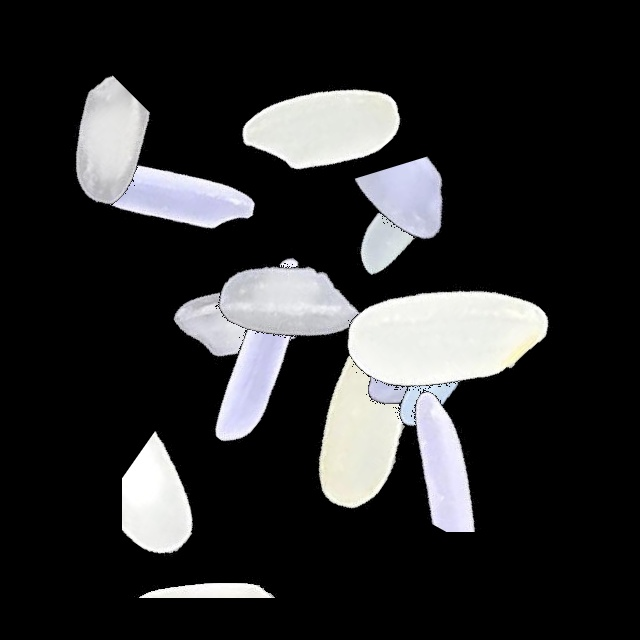Broken: (5, 39, 168, 289), (295, 317, 545, 480), (341, 376, 591, 532), (342, 110, 485, 360), (258, 191, 508, 318), (122, 371, 237, 621), (93, 505, 343, 598)
Full: (121, 190, 371, 440), (241, 291, 491, 541), (136, 226, 386, 476), (200, 2, 450, 252), (166, 179, 416, 429), (39, 63, 289, 313), (297, 232, 547, 482), (319, 205, 569, 455)
